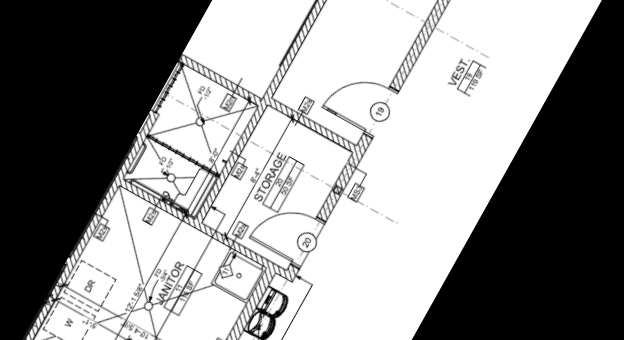door: (245, 189, 320, 265), (202, 266, 279, 340), (319, 60, 393, 135)
wall: (191, 0, 372, 227), (14, 109, 163, 340), (117, 176, 301, 287), (386, 0, 500, 98), (311, 124, 382, 229), (267, 96, 359, 156), (178, 53, 265, 108)
